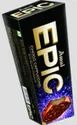Amul: (58, 50, 69, 69)
